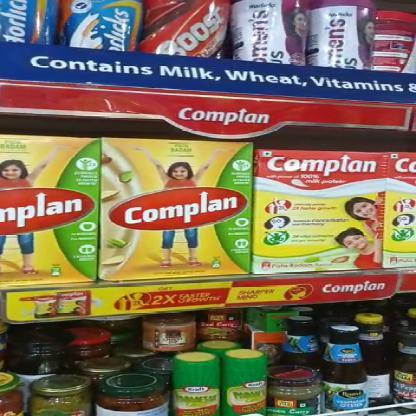Complan Pista Badam: (102, 138, 250, 280), (257, 152, 384, 276)
